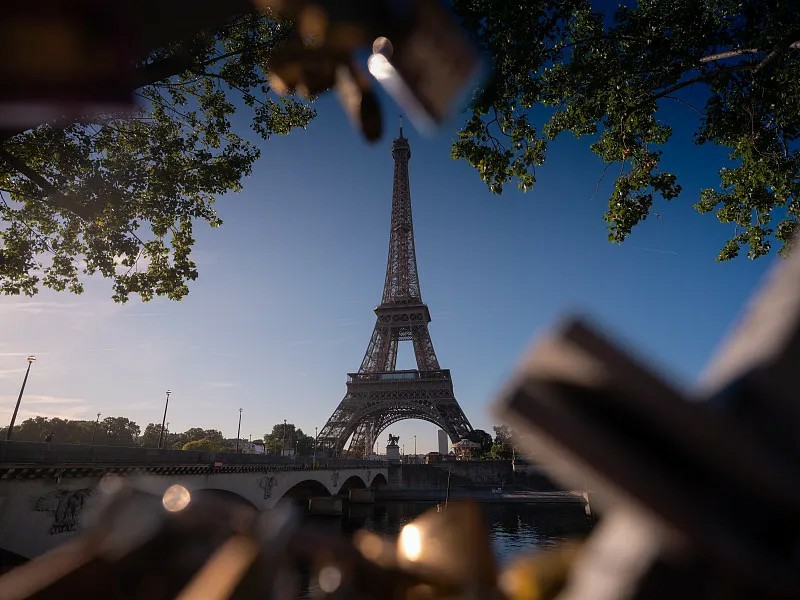Eiffel: (315, 110, 477, 455)
